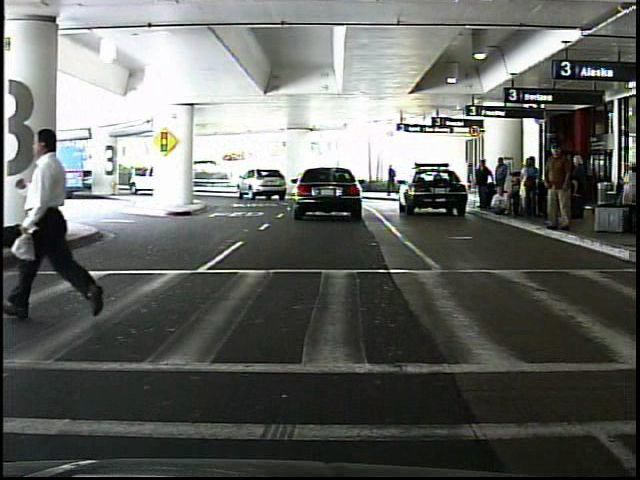person: (19, 124, 120, 321), (540, 141, 578, 236), (474, 159, 493, 212), (388, 164, 401, 199), (127, 164, 139, 189)
